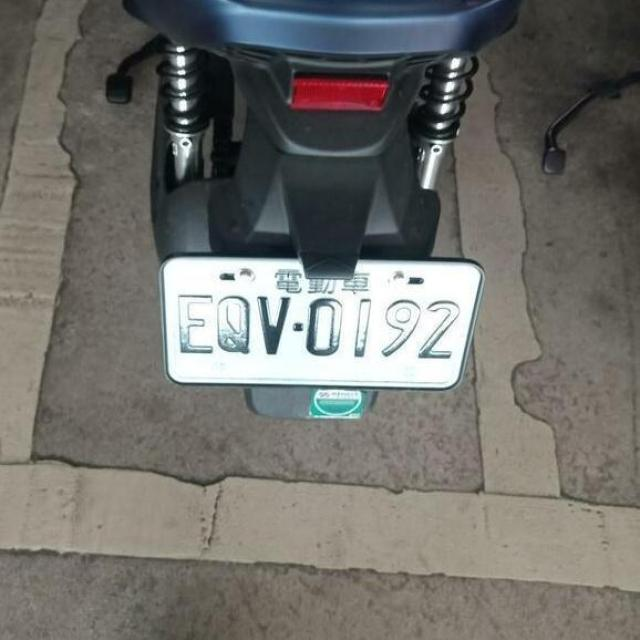W: (150, 238, 486, 406)
